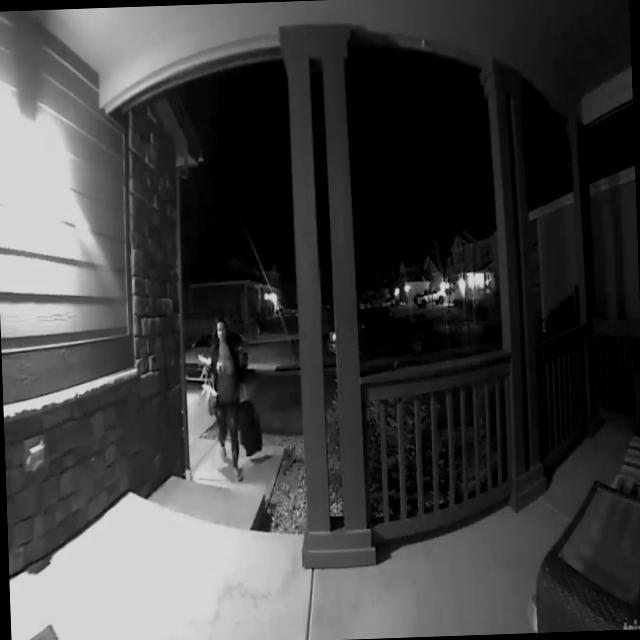car: (193, 292, 268, 492)
